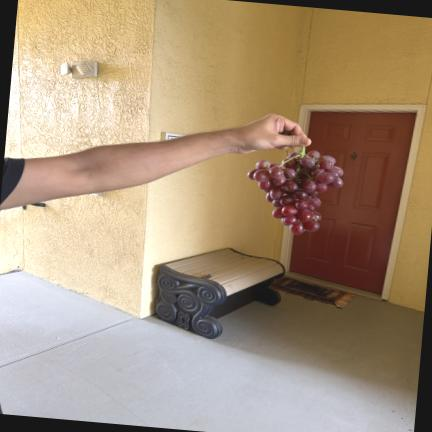grape_cluster: (247, 146, 344, 235)
